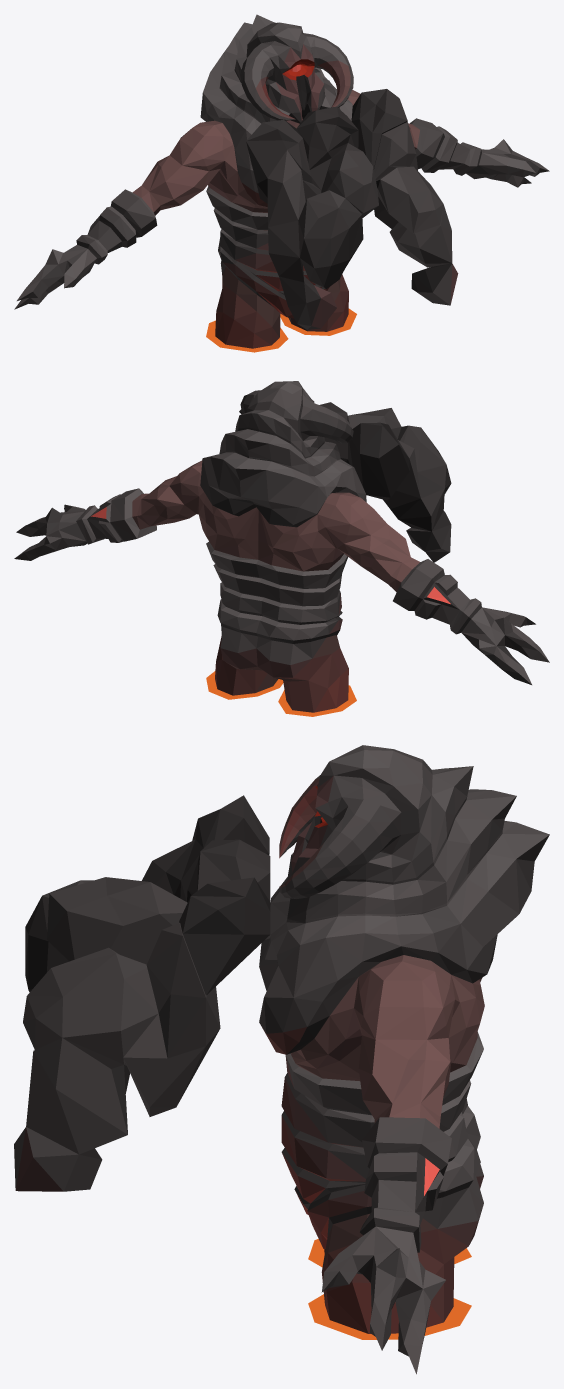
The model's file is inferno.gltf.
The picture shows the model from 3 angles, top to bottom: view 1: azimuth 30°, elevation 25°; view 2: azimuth 150°, elevation 25°; view 3: azimuth 270°, elevation 25°; orthographic projection. The views are drawn at different scales.
Bounding box in the file's own units: 1346 × 729 × 667.
Materials: 1 (1 with a texture image).
